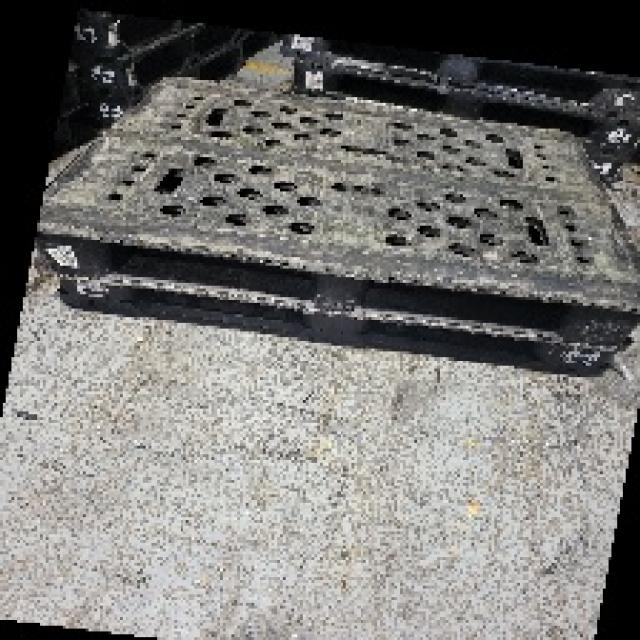igps: (32, 68, 640, 350), (45, 263, 640, 382)
